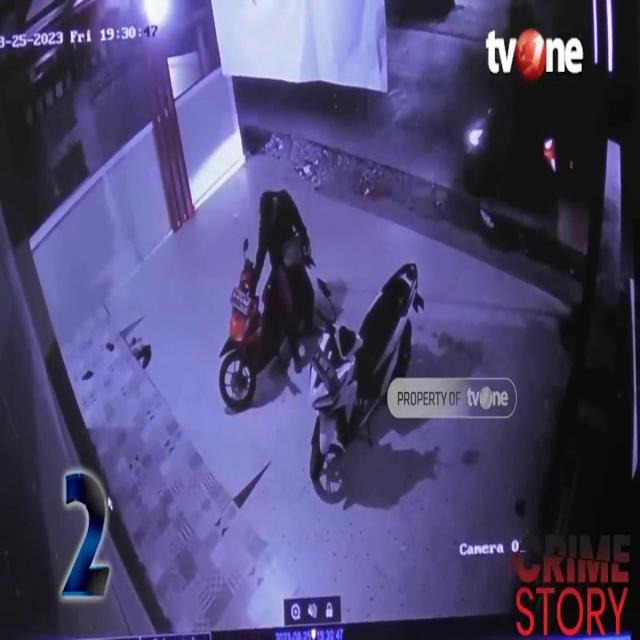pencurian: (219, 184, 319, 410)
